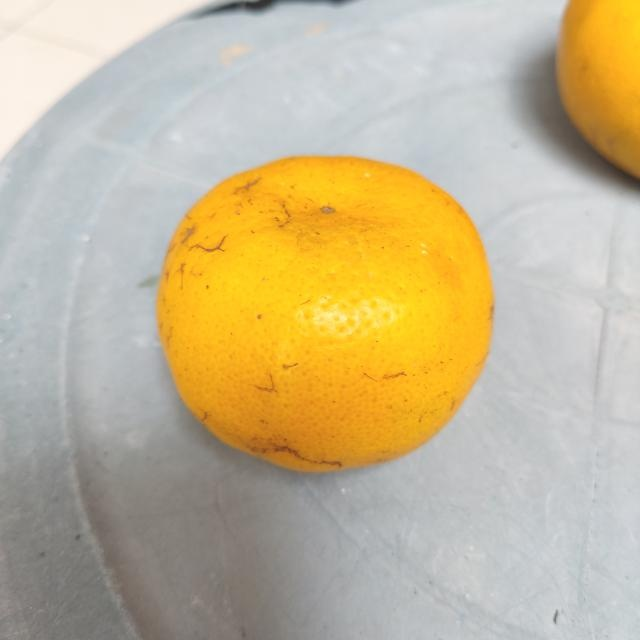agrume: (157, 154, 497, 474)
